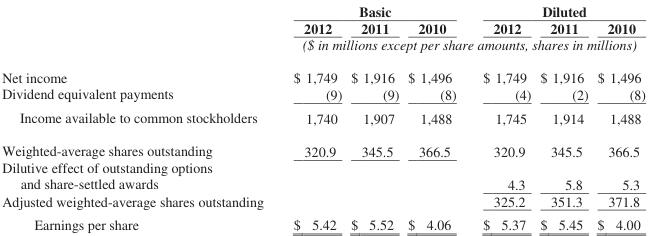table: (1, 1, 645, 233)
table column: (1, 1, 277, 233), (277, 1, 345, 233), (402, 1, 468, 233), (468, 1, 534, 233), (534, 1, 592, 233), (345, 1, 402, 233), (592, 1, 645, 233)
table column header: (1, 1, 645, 59)
table projected row header: (1, 158, 645, 174)
table row: (1, 104, 645, 133), (1, 59, 645, 84), (1, 133, 645, 158), (1, 36, 645, 59), (1, 211, 645, 233), (1, 84, 645, 104), (1, 191, 645, 211), (1, 1, 645, 19), (1, 19, 645, 36), (1, 174, 645, 191), (1, 158, 645, 174)
table spanning cell: (277, 36, 645, 59), (277, 1, 468, 19), (468, 1, 645, 19)
